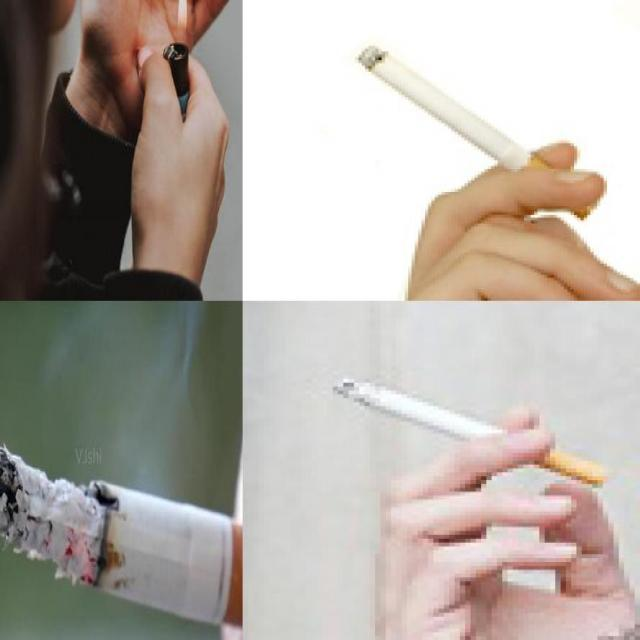smoke: (0, 432, 242, 638), (328, 374, 609, 488), (352, 40, 544, 172)
